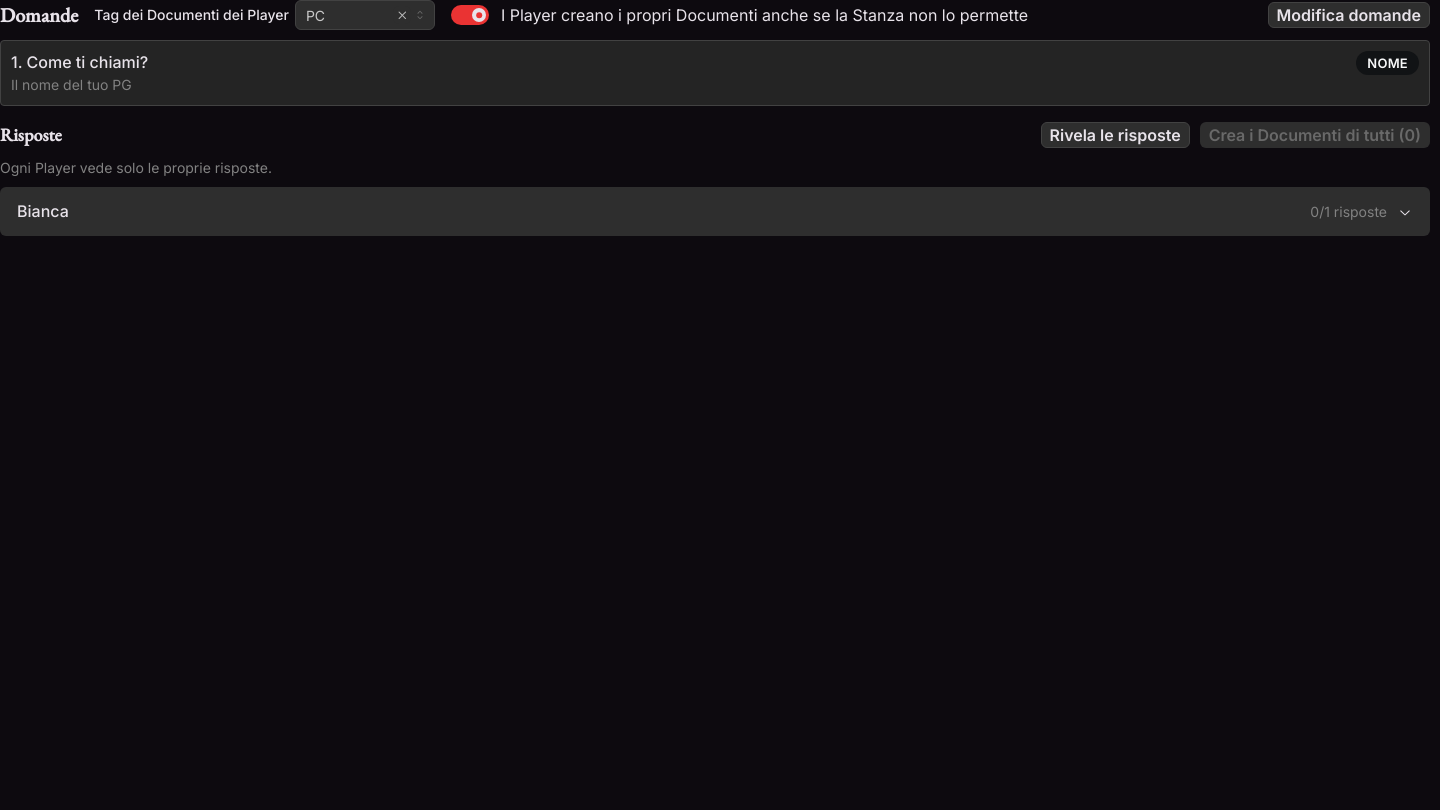
Test: Edit questions › closes at once when nothing changed
Step 1. Click the button "Modifica domande" → (1349, 15), box 1268,2 -> 1430,28
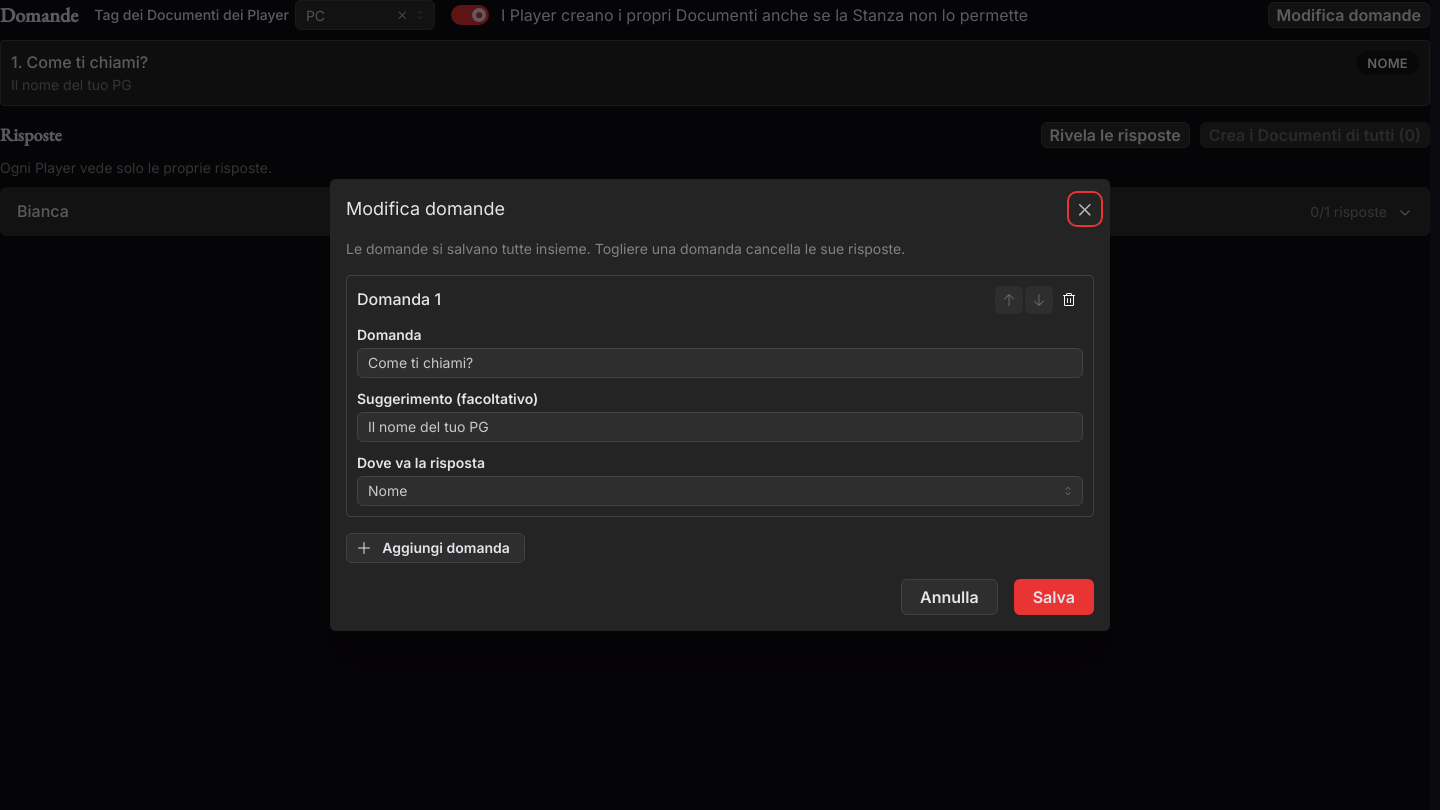
Step 2. Click the button "Annulla" → (949, 597), box 901,579 -> 998,615
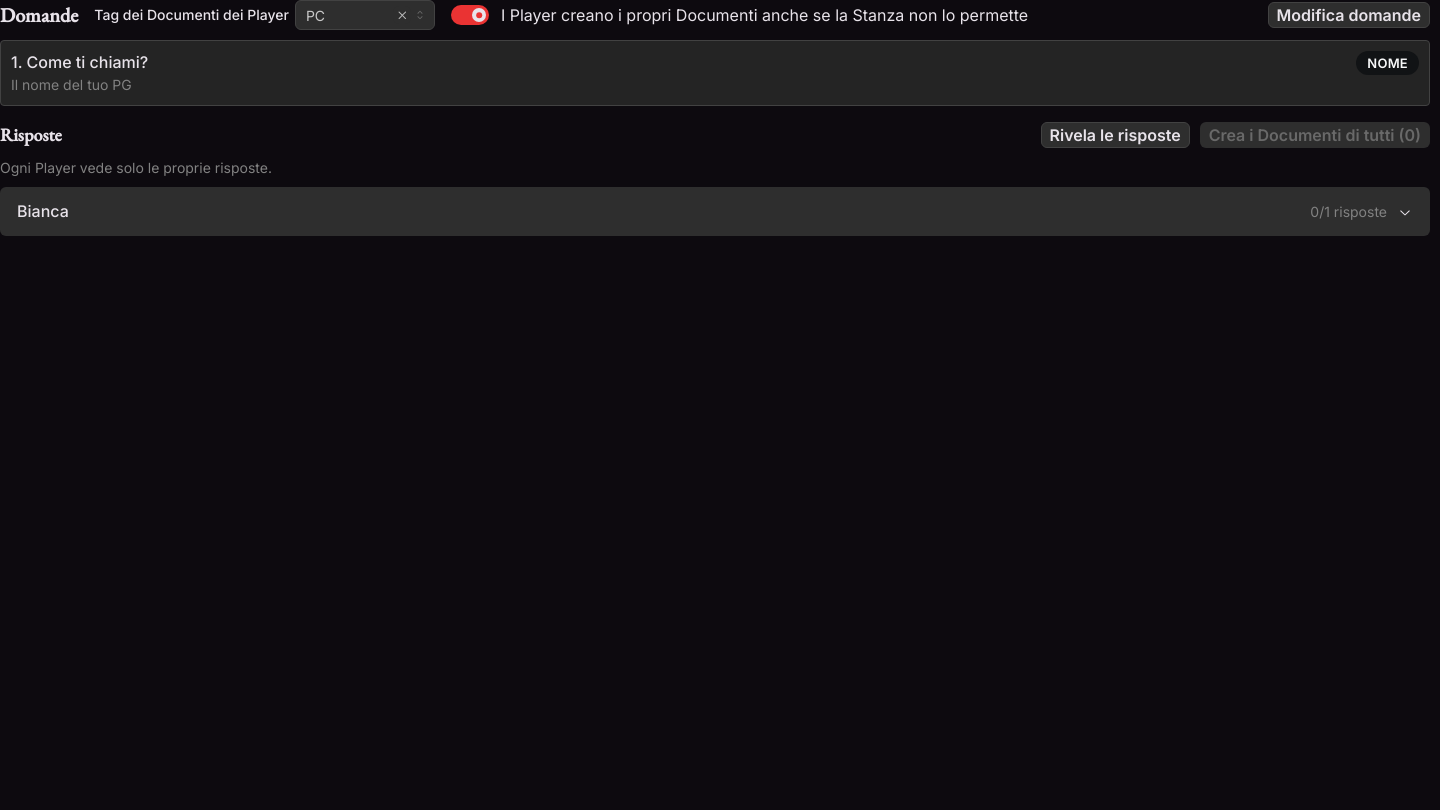
Now the dialog is gone
